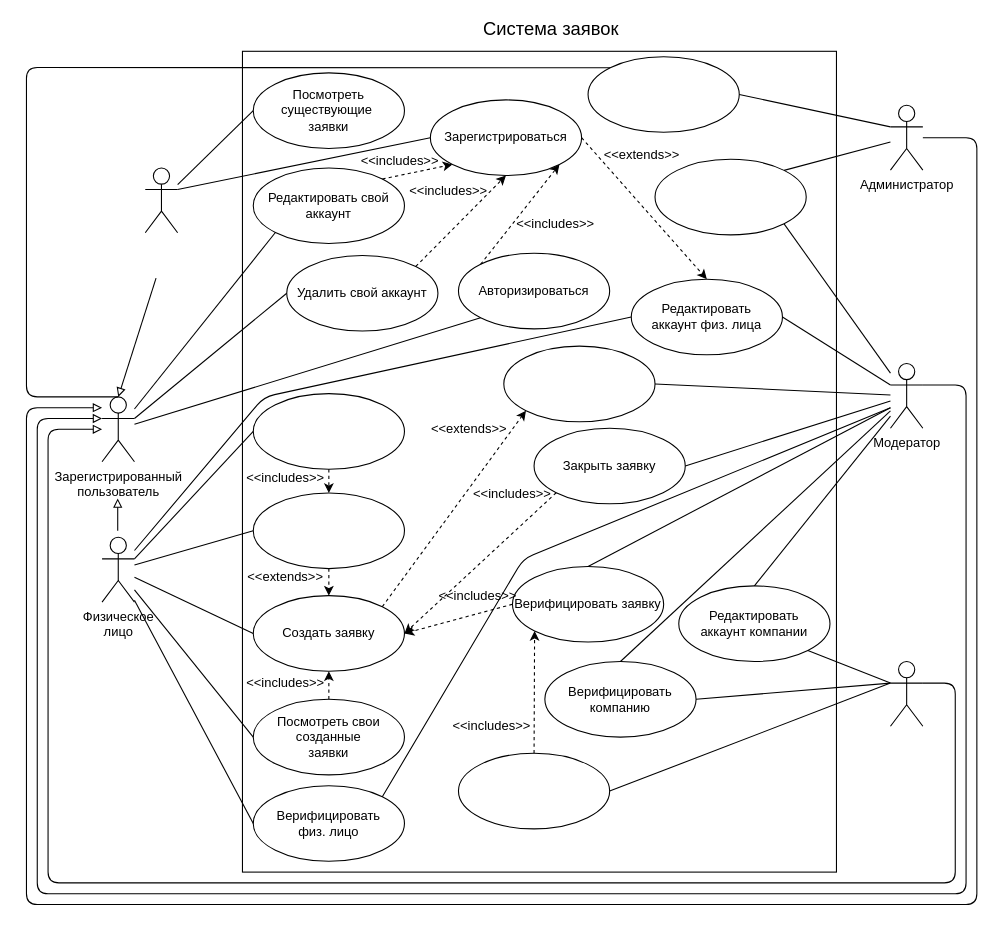
This 1004x932 diagram has some shape labels left out. The shapes that lost their labels are listed below. From the top down, each one's centre as x and y in pixels, then its label:
At point 663,94: "Удалить аккаунт другого пользователя".
At point 161,200: "Незарегистрированный пользователь".
At point 730,196: "Назначить модератора".
At point 579,383: "Редактировать заявку".
At point 328,431: "Посмотреть понравившиеся заявки".
At point 328,530: "Голосовать за или против заявки".
At point 906,693: "Компания".
At point 533,790: "Исполнить заявку".
